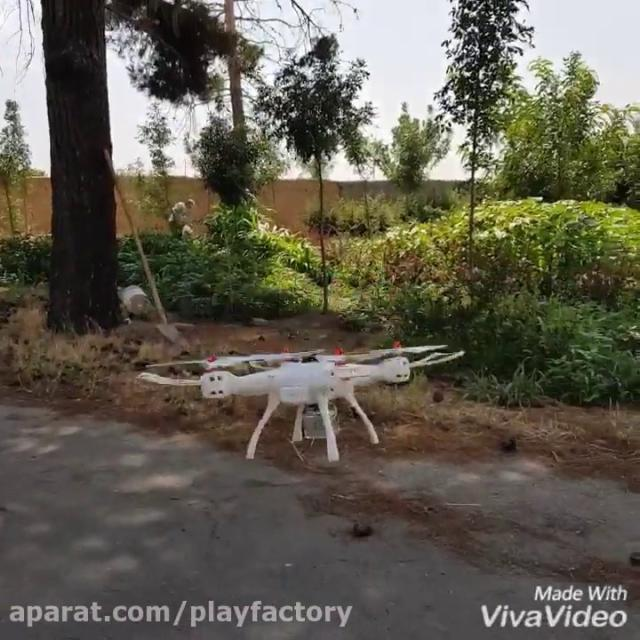drone: (133, 340, 465, 462)
